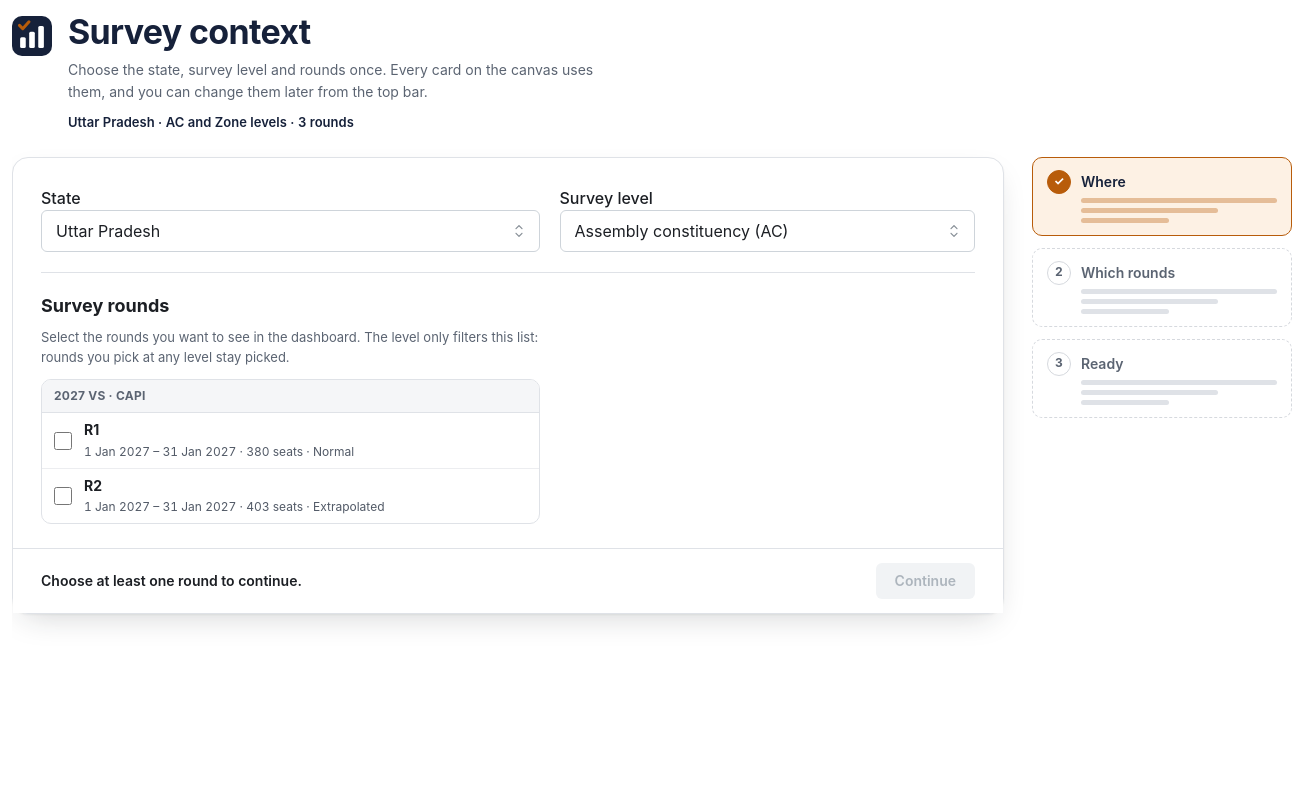
ContextStep › with reduced motion, Continue applies at once, with no leaving animation to wait for
Click the checkbox named "2027 VS CAPI R1". click: (63, 441)
box: [54, 432, 72, 450]
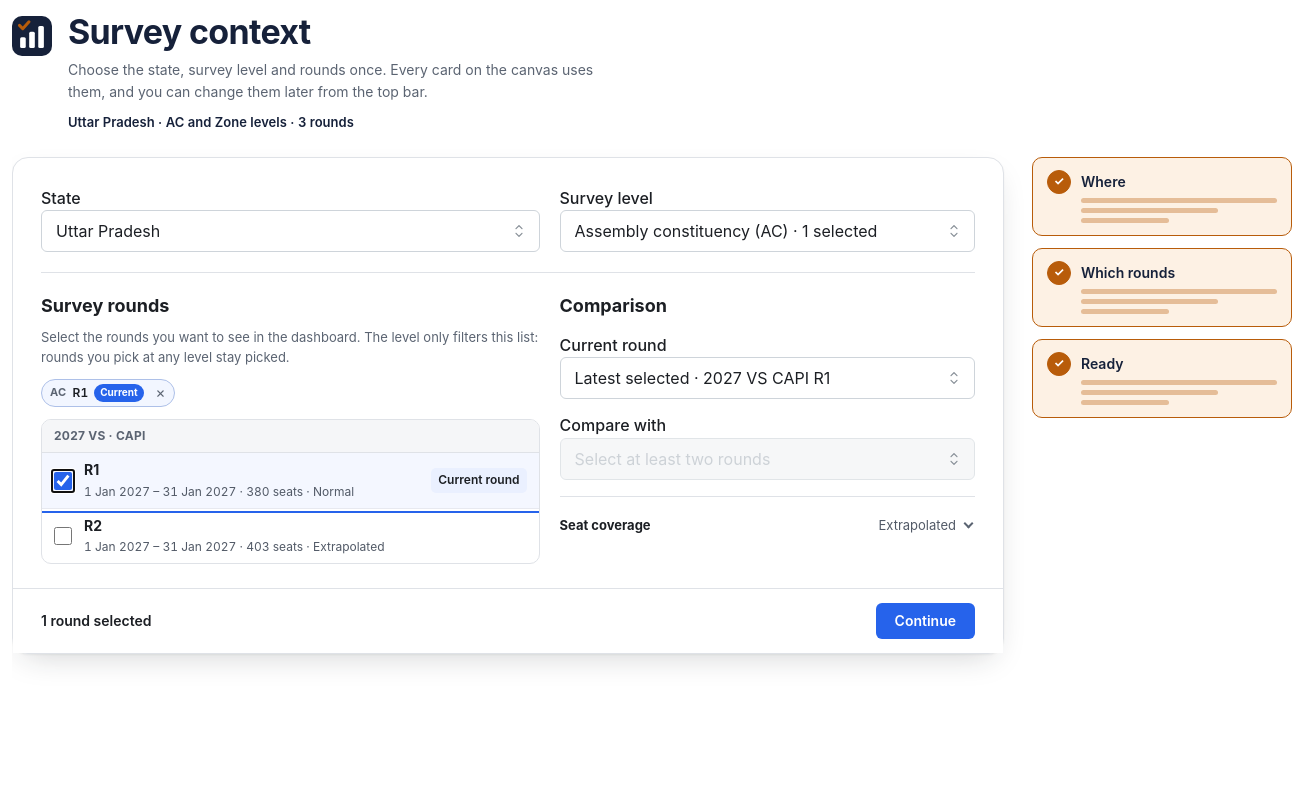
Click the button "Continue". click: (925, 621)
box: [876, 603, 975, 639]
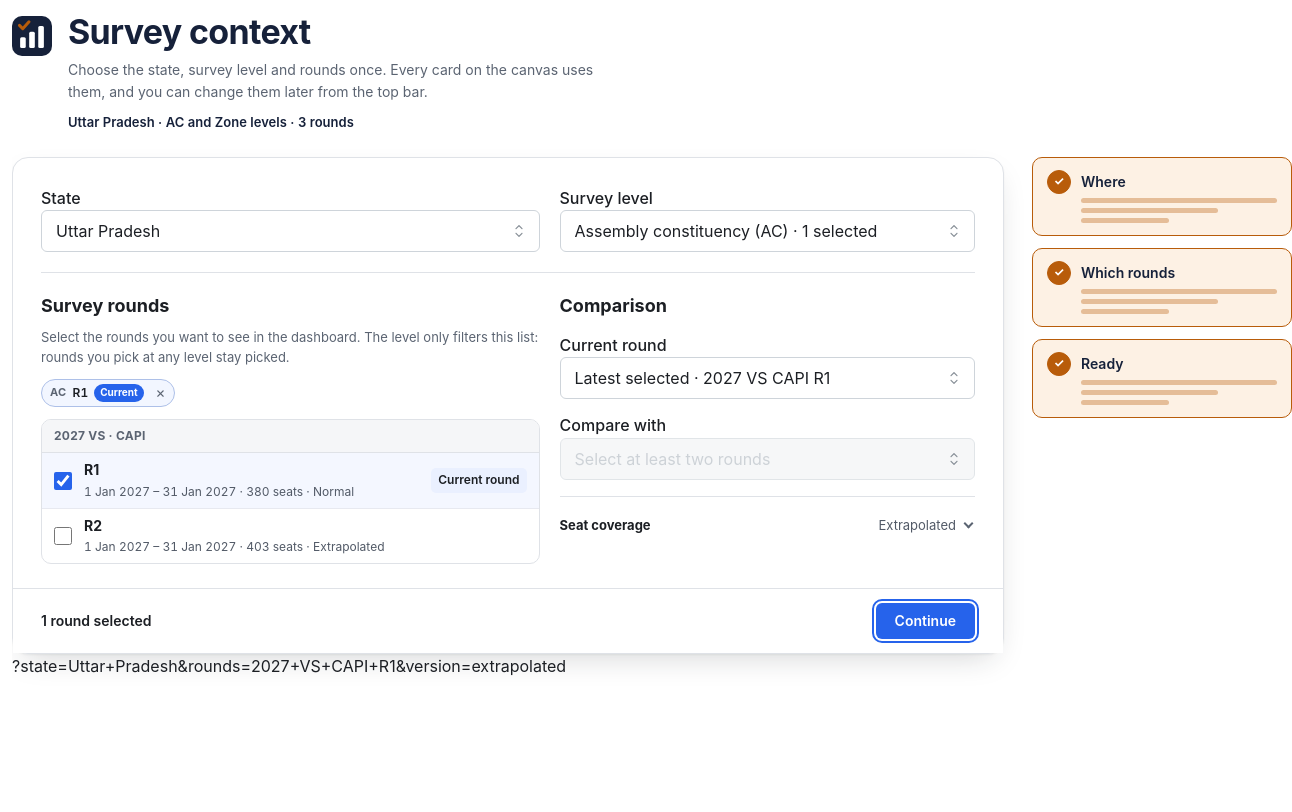
Expected: the text with test id "search" shows "state=Uttar+Pradesh", [12, 656, 566, 676]
